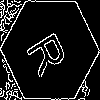R: (25, 25, 76, 79)
